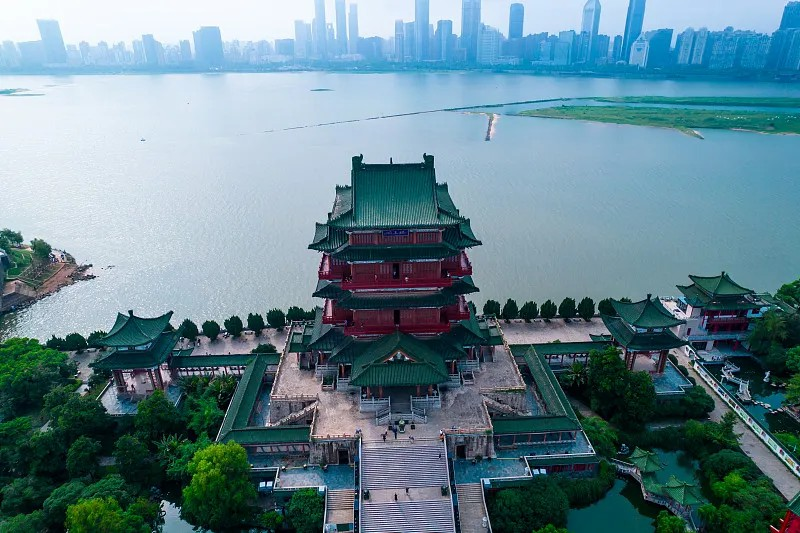Teng: (289, 153, 504, 401)
